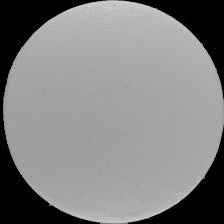68012-309: (0, 0, 224, 224)
